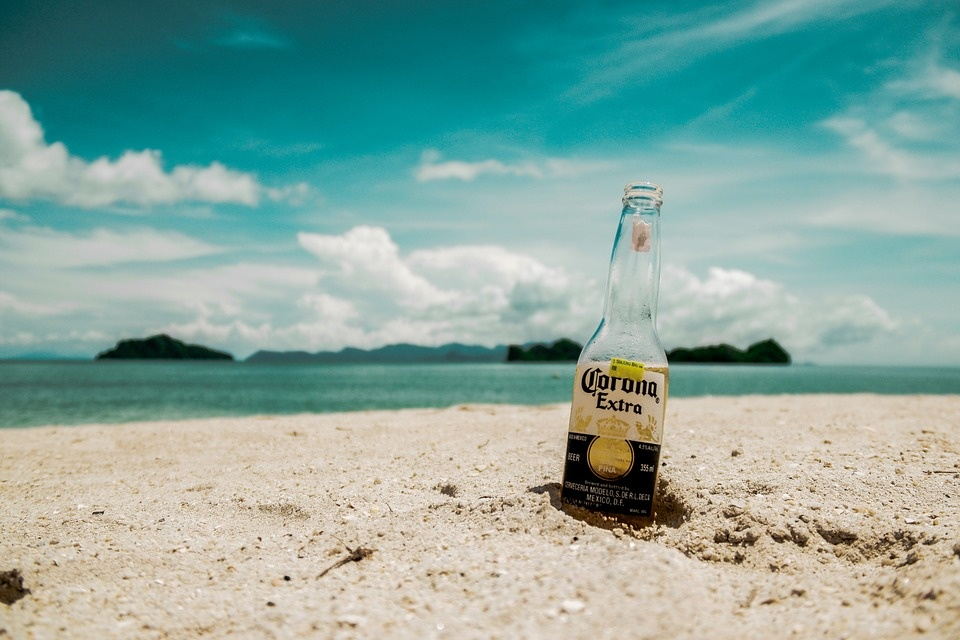beerBottle: (564, 187, 668, 526)
